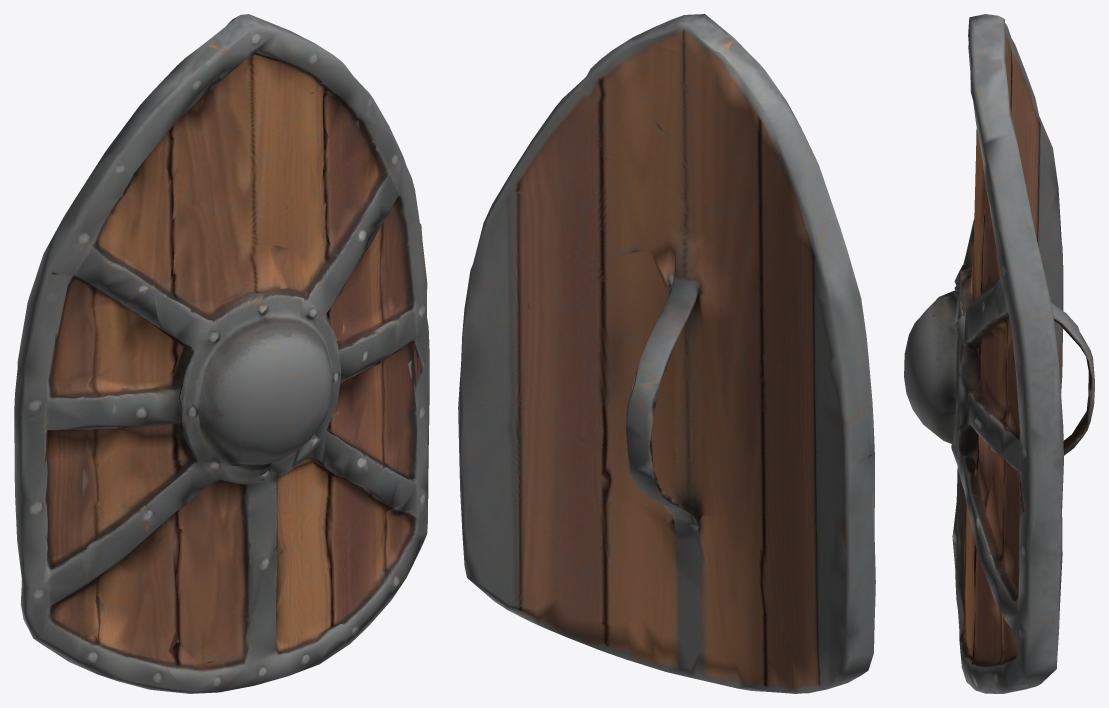
File: 1733_shield.glb
3 renders of one model, left to right at view 1: azimuth 30°, elevation 25°; view 2: azimuth 150°, elevation 25°; view 3: azimuth 270°, elevation 25°, orthographic. The views are drawn at different scales.
Parts seen in each view (by area): view 1: Model; view 2: Model; view 3: Model.
Part boxes in pixels (x1,y1,x2,y2): Model: [14, 14, 429, 693]; Model: [458, 14, 875, 693]; Model: [904, 14, 1094, 693].
Size of the model in its own units: 0.6496 by 1 by 0.2697.
Materials: 1 (1 with a texture image).
